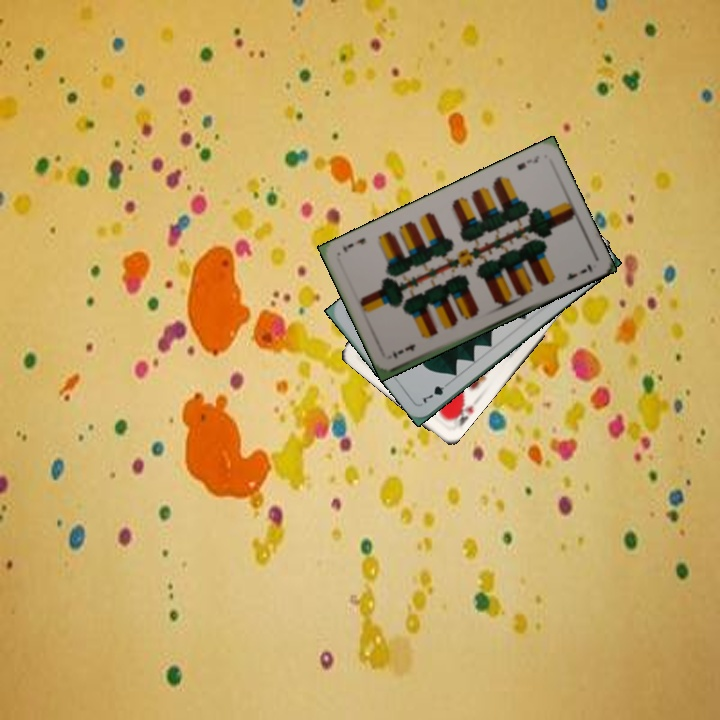E7: (389, 340, 418, 362), (513, 151, 542, 173)
G7: (419, 377, 454, 406)
HK: (444, 395, 476, 429)
